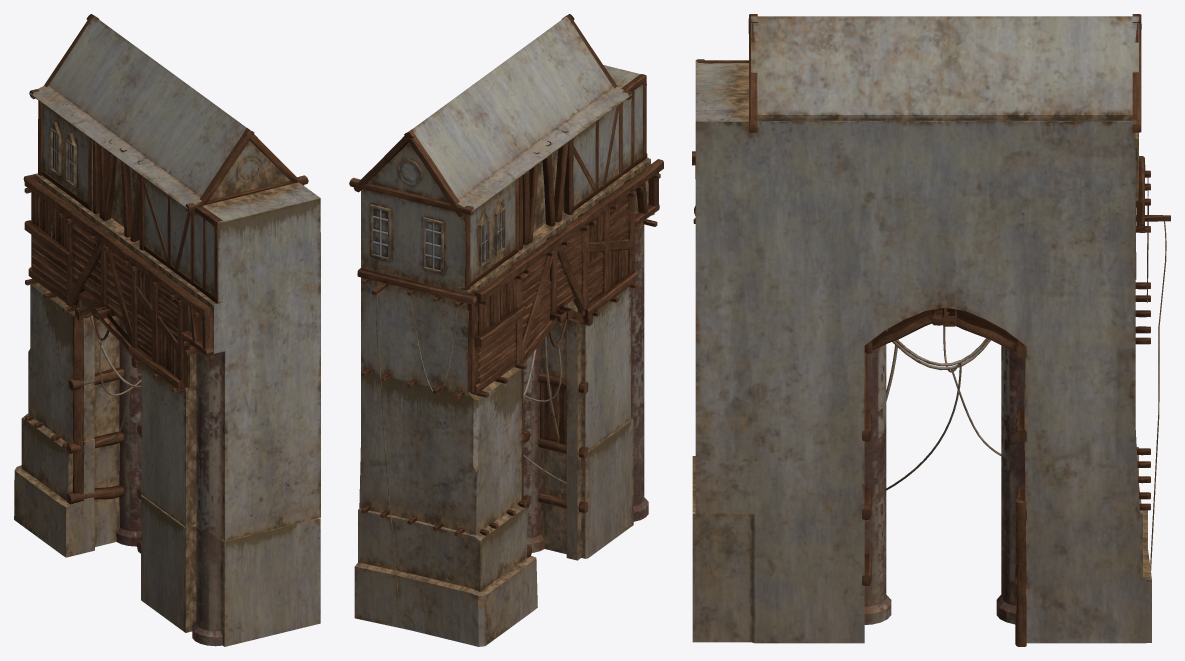
3 renders of one model, left to right at view 1: azimuth 30°, elevation 25°; view 2: azimuth 150°, elevation 25°; view 3: azimuth 270°, elevation 25°, orthographic. The views are drawn at different scales.
Visible parts, largest first — view 1: Base003; view 2: Base003; view 3: Base003.
Boxes of the visible parts, box(x1,y1,x2,y2) form: Base003: box(14, 14, 320, 646); Base003: box(349, 14, 663, 646); Base003: box(692, 14, 1170, 646).
Size of the model in its own units: 3.48 by 11.87 by 8.55.
